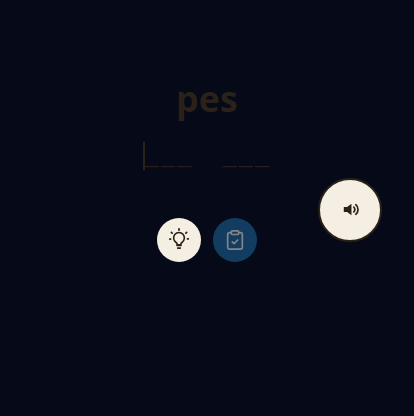
Test: TypingStudyCard › closes the mobile input after an explicit check
The image size is (414, 416).
Type "conchó" into the field.
click(207, 167); type("conchó")  # box [136,129,278,206]
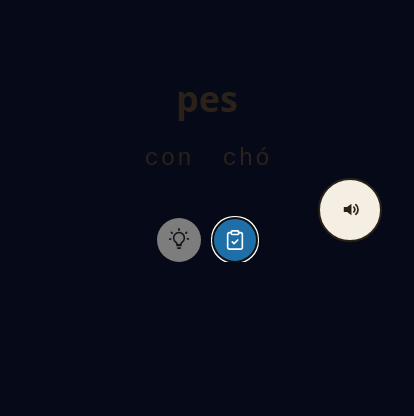
Click the button named "Check".
click(235, 240)  # box [213,218,257,262]
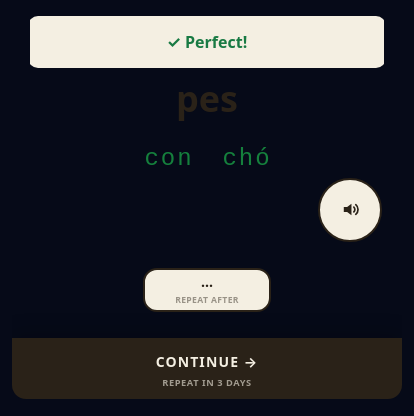
Now the field is disabled, box [136,129,278,206]
